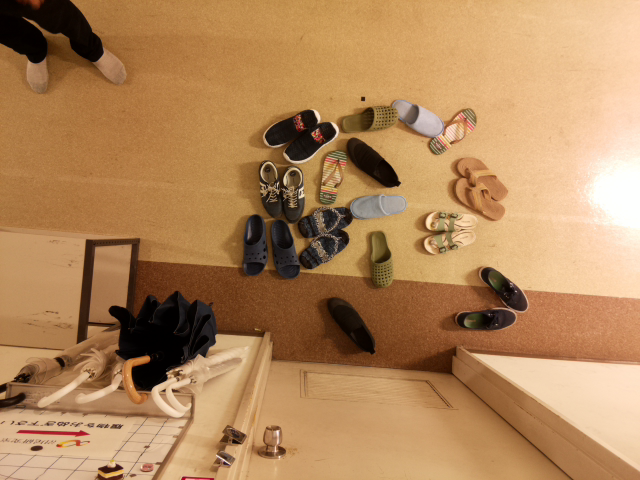Copy of Copy of Copy of Copy of Copy of Copy of Copy of Copy of Copy of Copy of: (338, 132, 411, 196), (254, 105, 325, 155), (275, 118, 340, 170), (425, 103, 481, 157), (331, 97, 405, 137), (299, 224, 357, 270), (388, 96, 443, 141), (250, 158, 289, 221), (272, 160, 311, 223), (309, 146, 348, 209), (344, 187, 412, 220), (287, 207, 355, 240)
Copy of Copy of Copy of Copy of Copy of Copy of Copy of Copy of Copy of shoe: (451, 176, 510, 226)
Copy of Copy of Copy of Copy of Copy of Copy of Copy of Copy of shoe: (448, 150, 514, 201)
Copy of Copy of Copy of Copy of Copy of Copy of Copy of shoe: (414, 222, 482, 258)
Copy of Copy of Copy of Copy of Copy of Copy of shoe: (416, 203, 484, 239)
Copy of Copy of Copy of Copy of Copy of shoe: (362, 226, 400, 295)
Copy of Copy of Copy of Copy of shoe: (447, 302, 519, 336)
Copy of Copy of Copy of shoe: (473, 263, 529, 318)
Copy of Copy of shoe: (323, 290, 381, 362)
Copy of foot: (1, 25, 78, 100)
Copy of shoe: (266, 216, 299, 290)
foot: (59, 13, 137, 88)
shoe: (237, 209, 270, 284)
